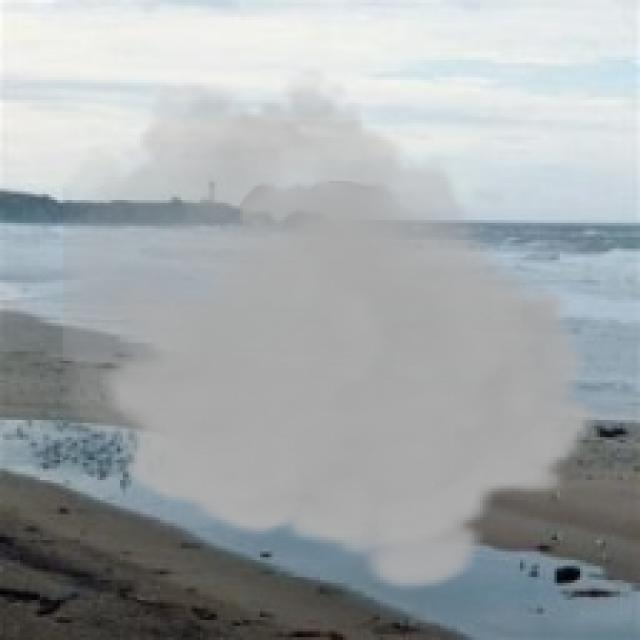Smoke: (63, 66, 600, 594)
